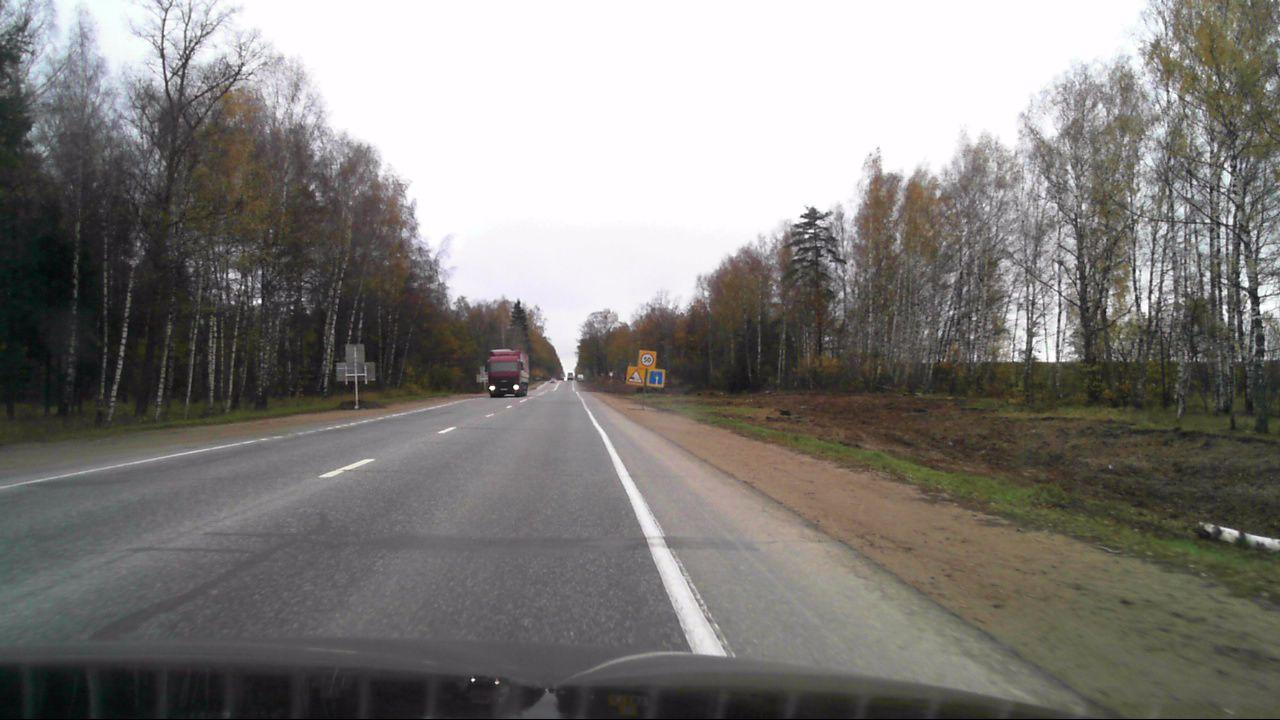1_18: (628, 368, 643, 385)
2_7: (646, 369, 664, 387)
3_24: (641, 352, 654, 367)
